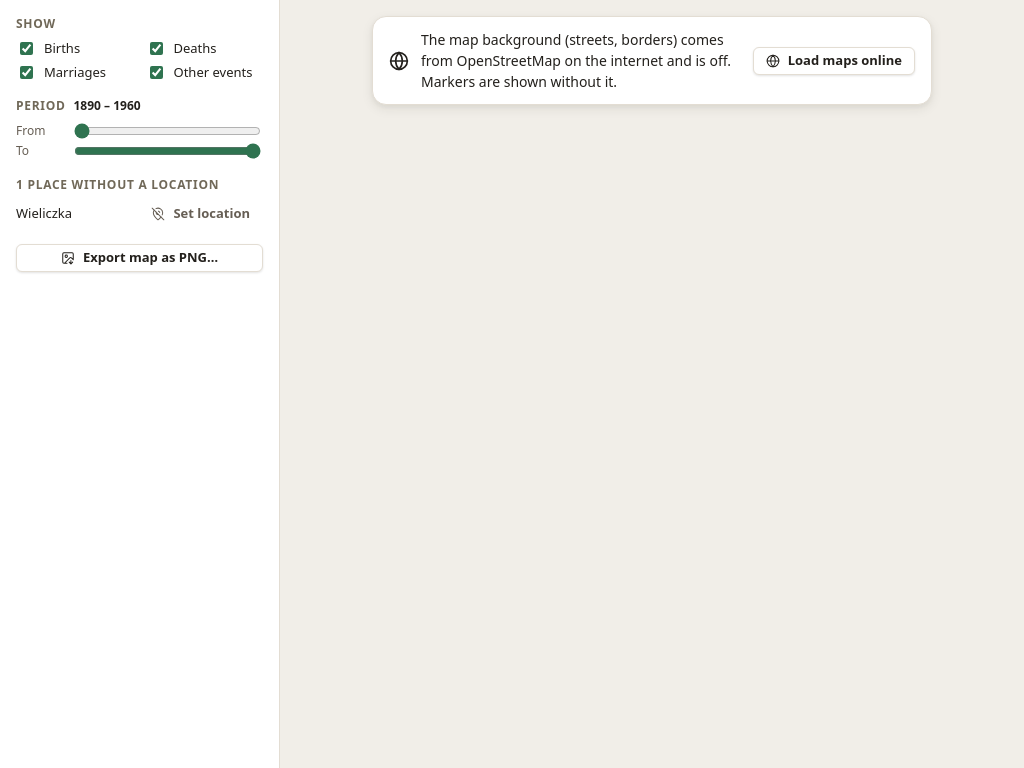
Test: MapView › filters by kind and period
Step 1. Click the checkbox labelled "Births" → x=26, y=49, box [20,42,33,55]
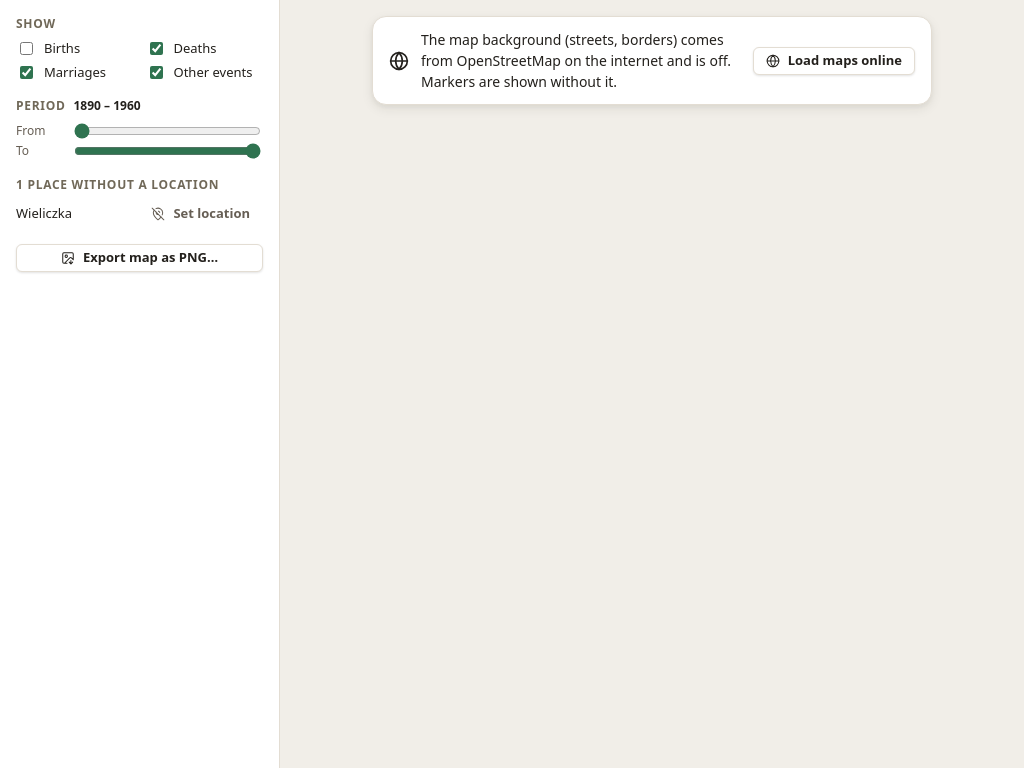
Step 2. Click the checkbox labelled "Births" → x=26, y=49, box [20,42,33,55]
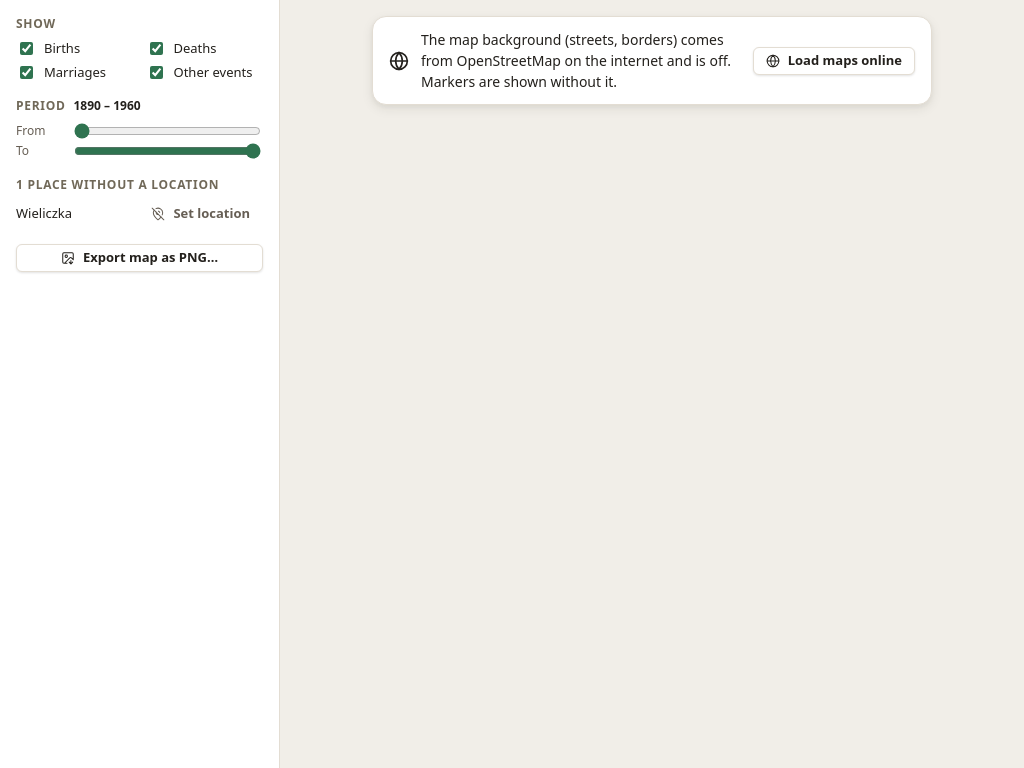
Step 3. Set the slider labelled "From" to "1950" → x=229, y=131, box [74,123,261,139]
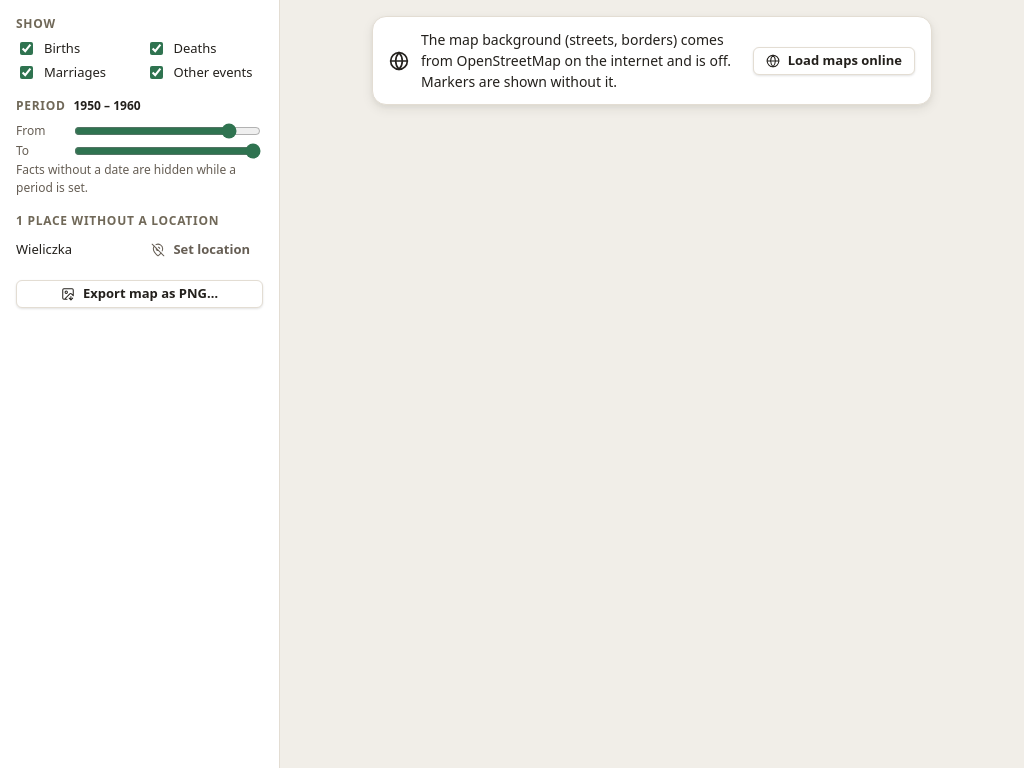
Check: the text "Facts without a date are hidden while a period is set." is shown, box [16,161,263,197]
